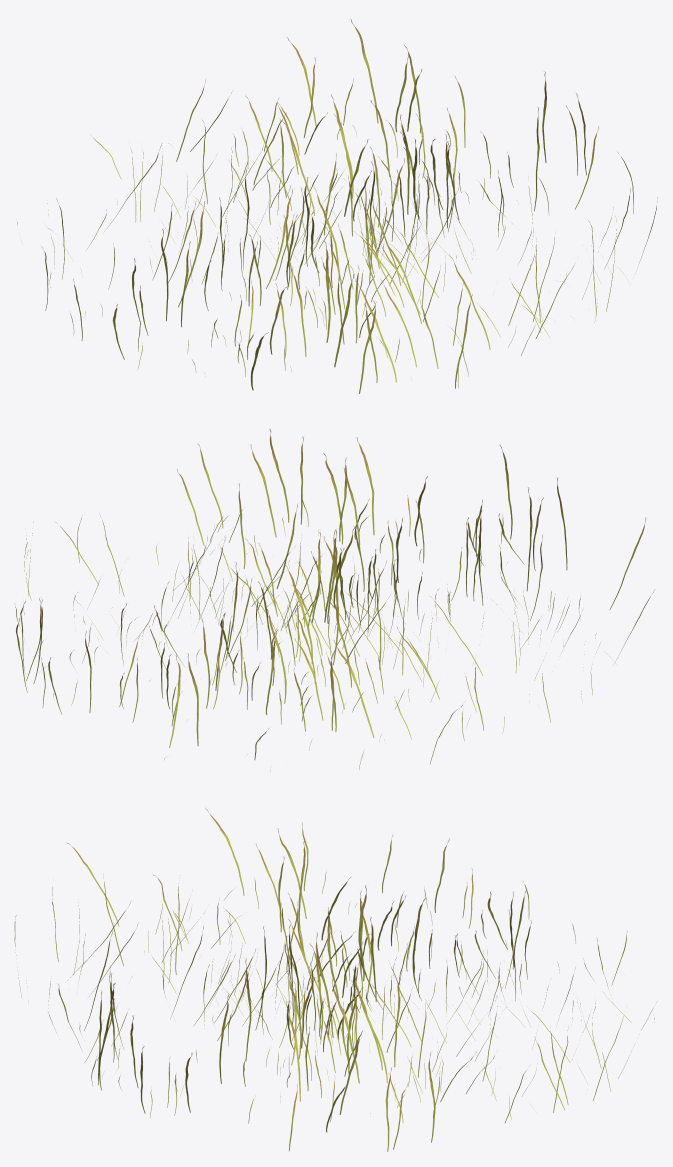
The model's file is interactable.glb.
The picture shows the model from 3 angles, top to bottom: view 1: azimuth 30°, elevation 25°; view 2: azimuth 150°, elevation 25°; view 3: azimuth 270°, elevation 25°; orthographic projection. The views are drawn at different scales.
Parts seen in each view (by area): view 1: GrassLawnAutumn; view 2: GrassLawnAutumn; view 3: GrassLawnAutumn.
Part boxes in pixels (x1,y1,x2,y2): GrassLawnAutumn: (17,18,657,393); GrassLawnAutumn: (15,428,654,771); GrassLawnAutumn: (14,808,654,1151).
Size of the model in its own units: 2.93 by 0.5596 by 2.95.
1 material, 1 textured.
